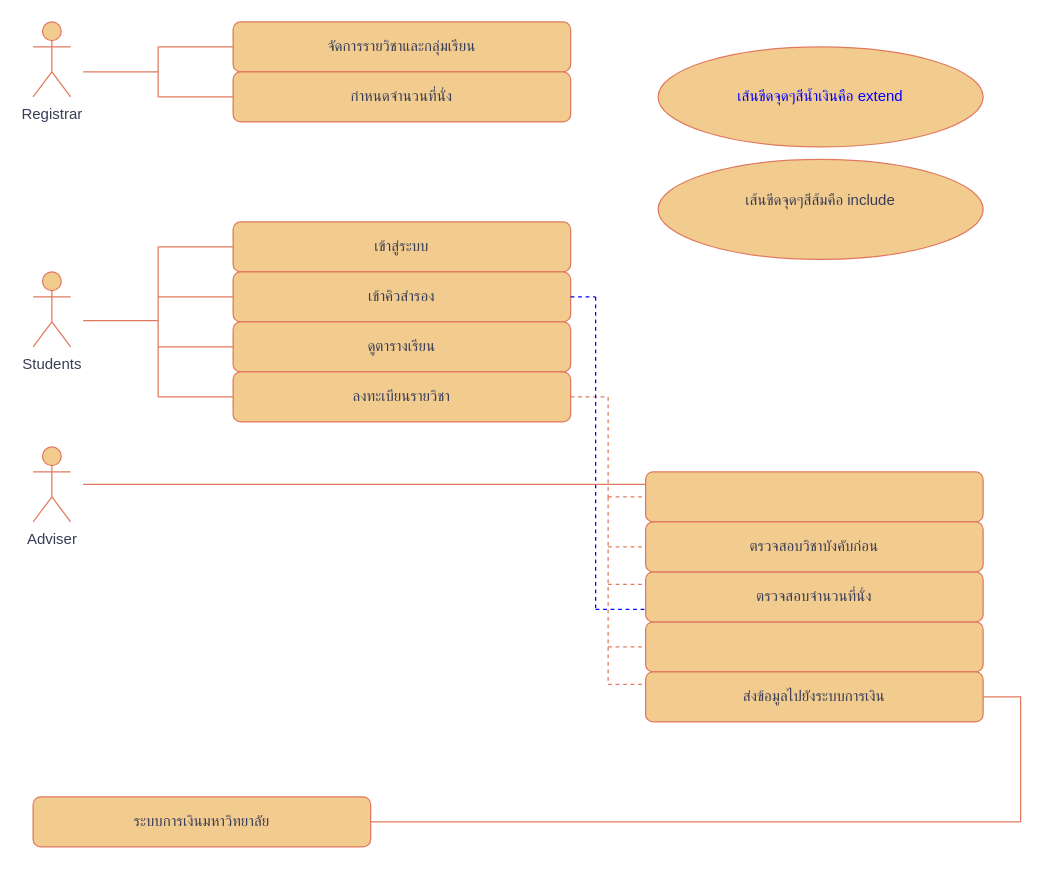
The diagram is 1044 pixels wide and 869 high, and some of its shapes have lost their labels. Here are the shapes that lost their labels. From the top down, the centre of each, then its label:
At point (813, 496): "ตรวจสอบและอนุมัติ".
At point (813, 646): "ตรวจสอบจำนวนหน่วยกิต".
